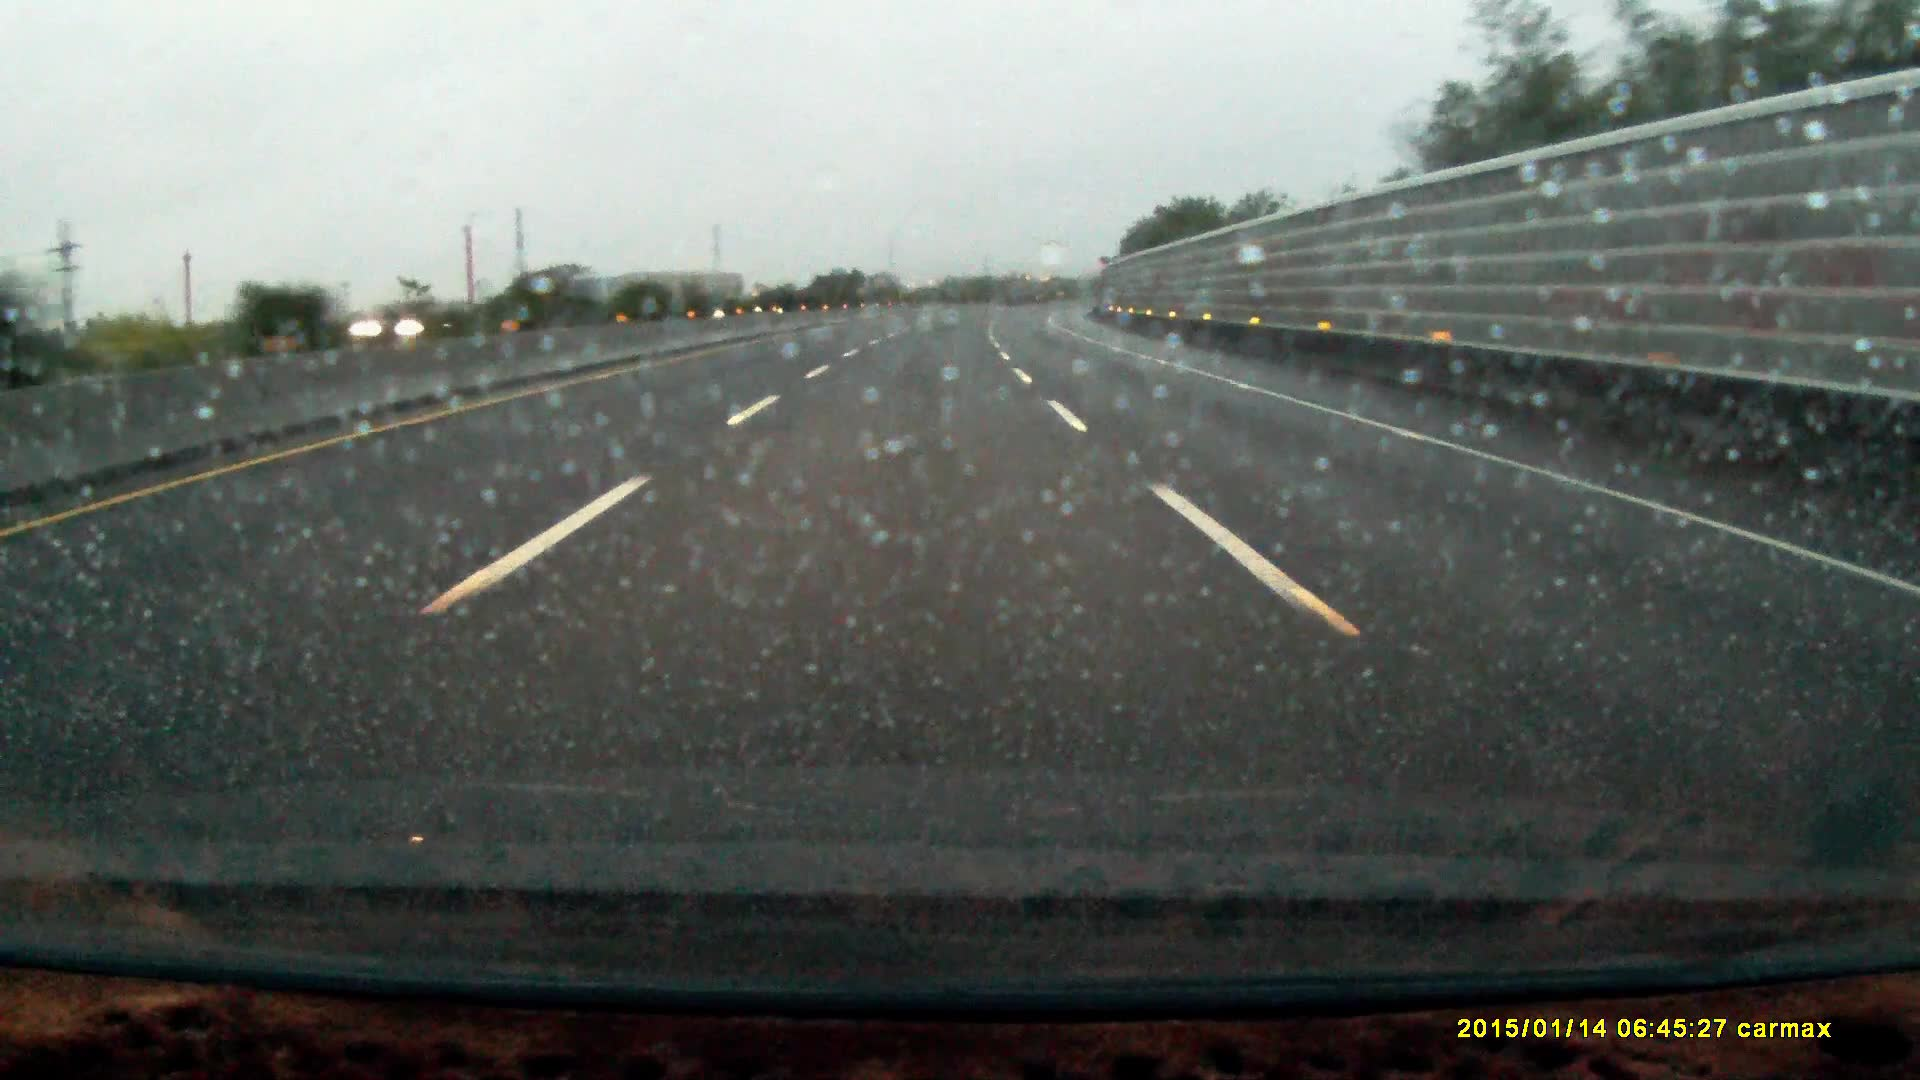vehicle: (345, 301, 487, 344)
